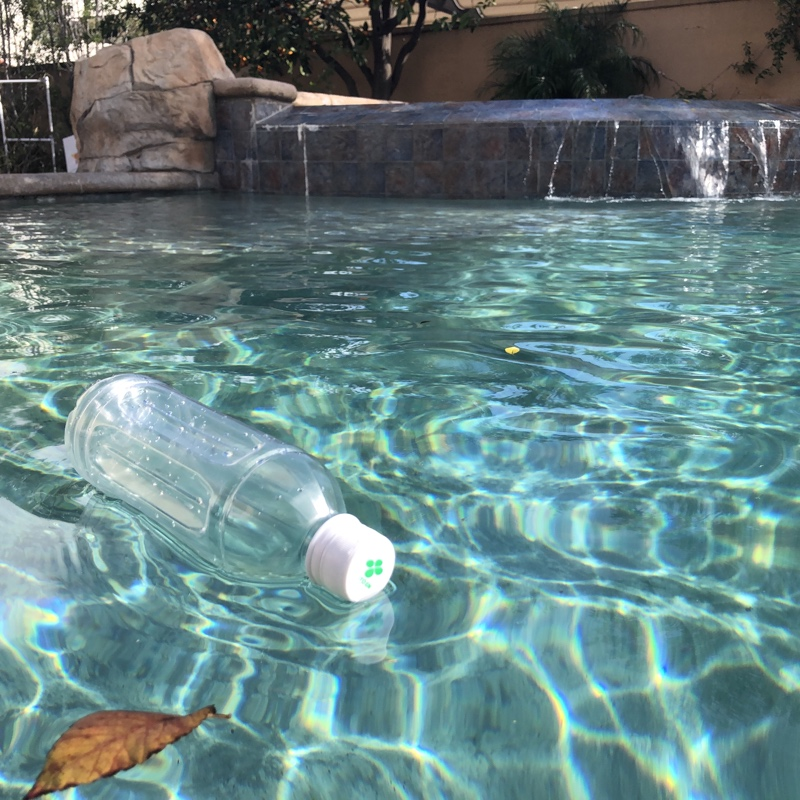Plastic Bottle: (59, 368, 399, 608)
